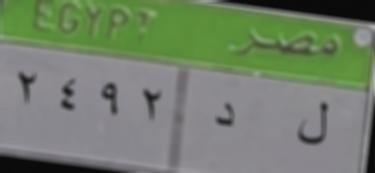2: (13, 62, 45, 111), (137, 79, 163, 124)
4: (52, 75, 86, 116)
9: (98, 76, 128, 126)
daal: (209, 96, 239, 135)
laam: (290, 96, 339, 157)
